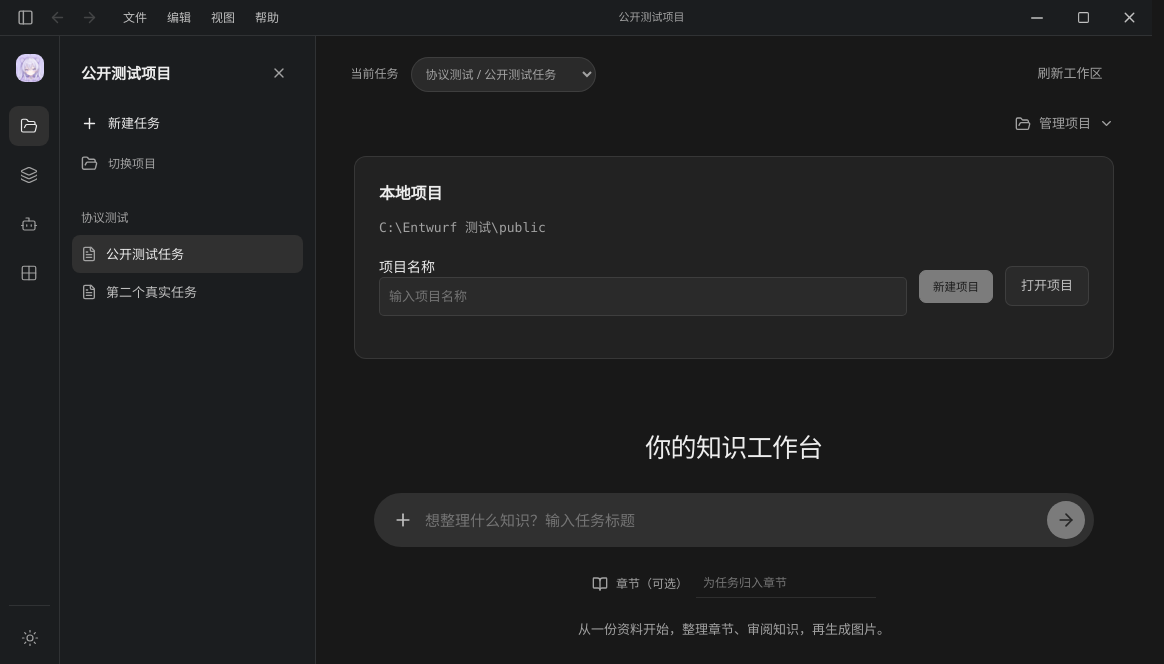
Scenario: connects native window controls to Tauri and refuses close with an unsaved draft
This screenshot has width=1164, height=664.
Expected: the dropdown labelled "当前任务" is shown, 411,56 -> 596,92
Click the button named "最小化窗口" at (1037, 18), box 1014,0 -> 1060,35
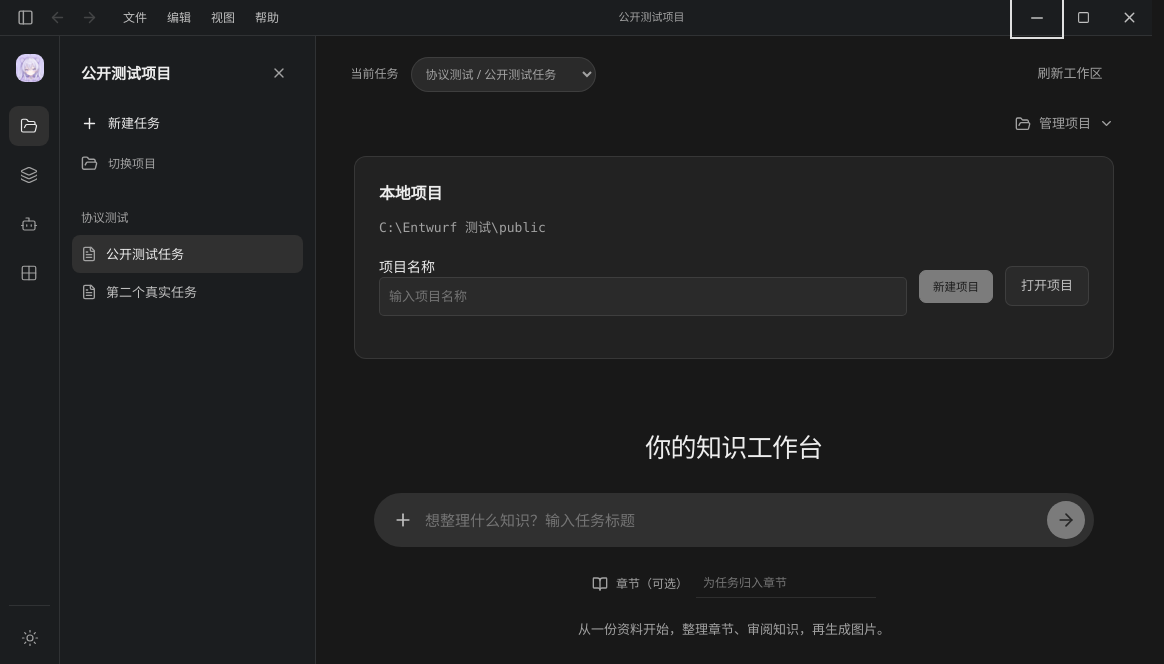
Click the button named "切换窗口最大化" at (1083, 18), box 1060,0 -> 1106,35
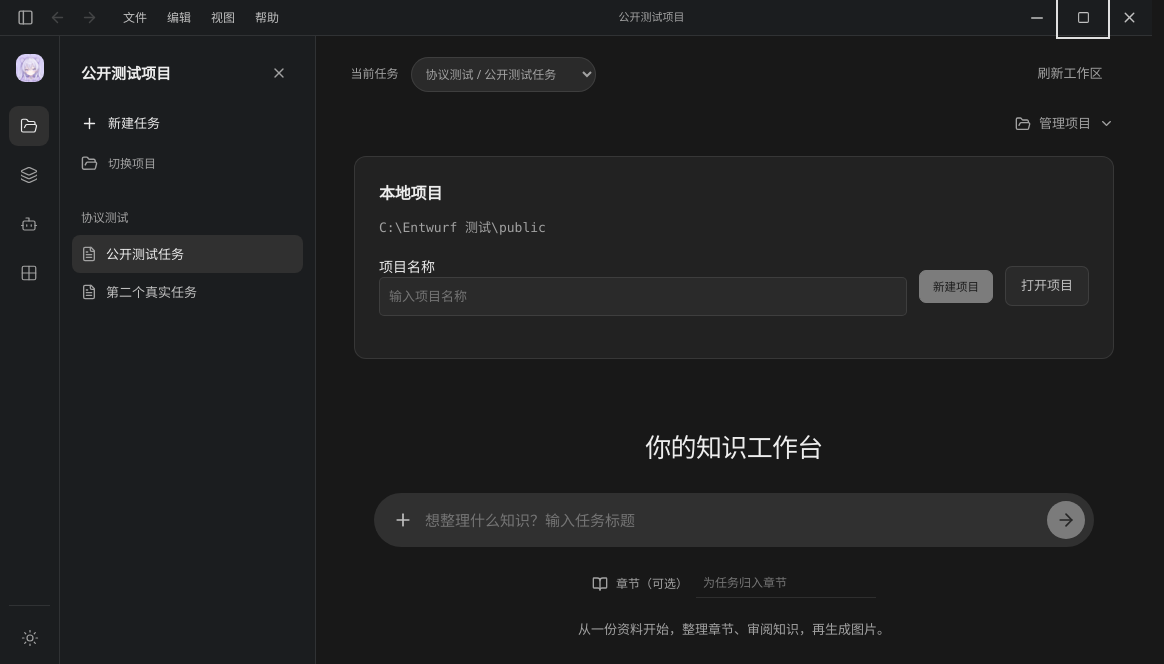
Click the button named "结果" at (29, 273), box 9,253 -> 49,293
(page scrolled)
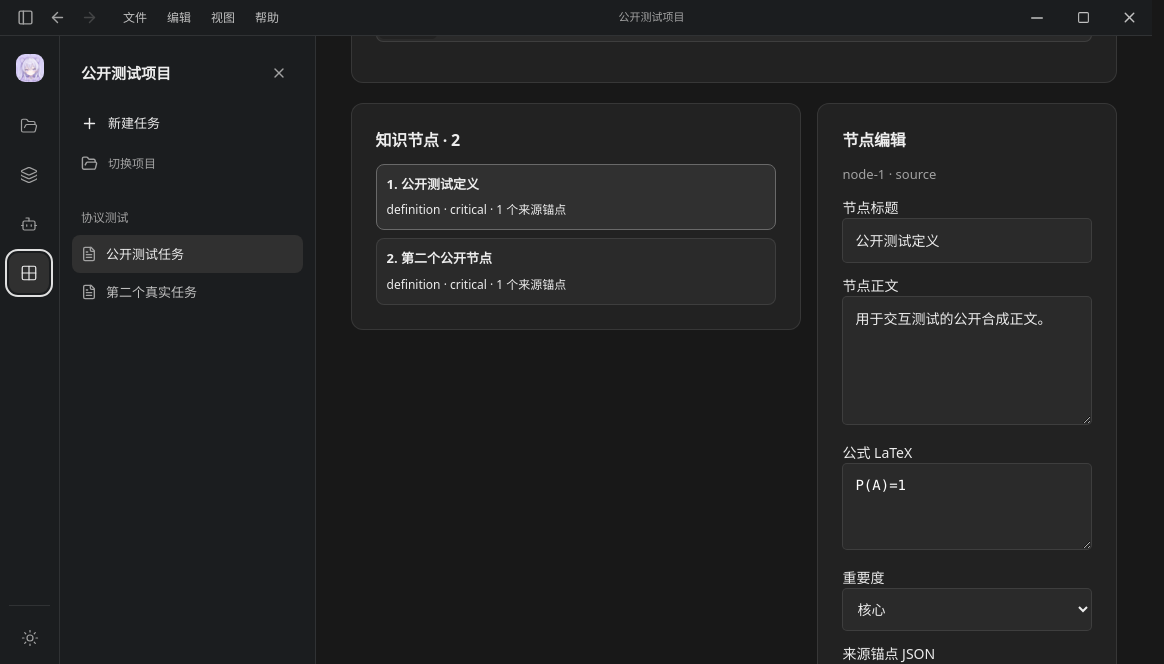
Type " 未保存" into the text box labelled "节点正文" at (967, 360), box 842,296 -> 1092,425
(page scrolled)
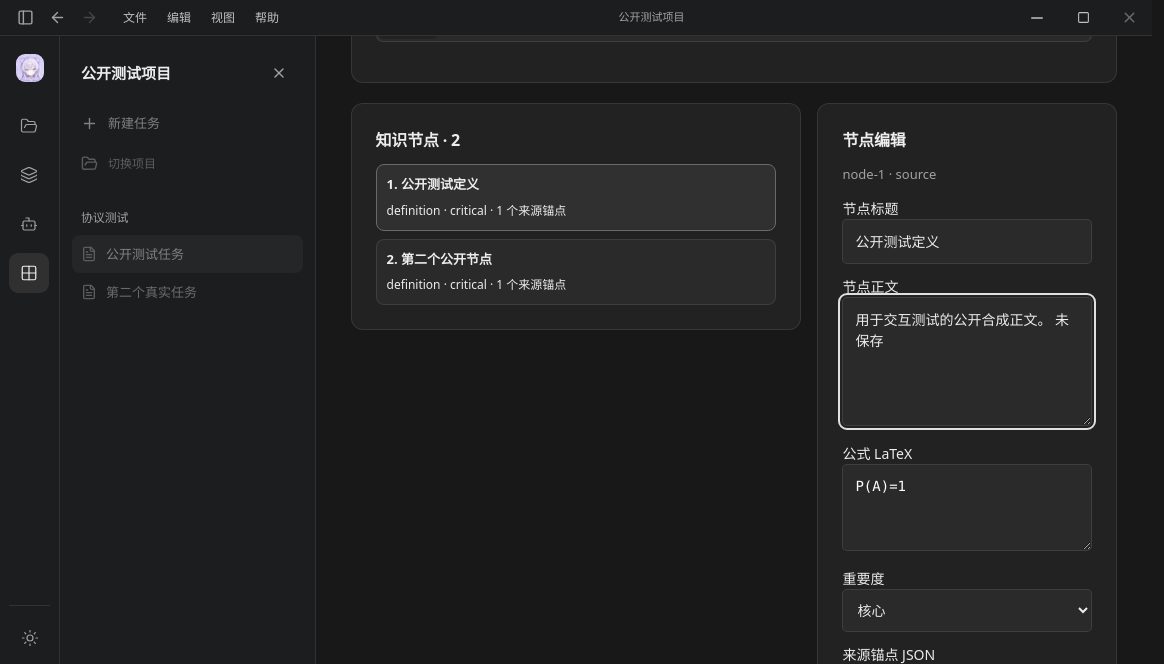
Expected: the button named "关闭窗口" is disabled, 1106,0 -> 1152,35
